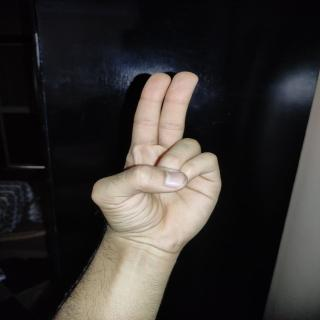TA: (88, 69, 224, 265)
